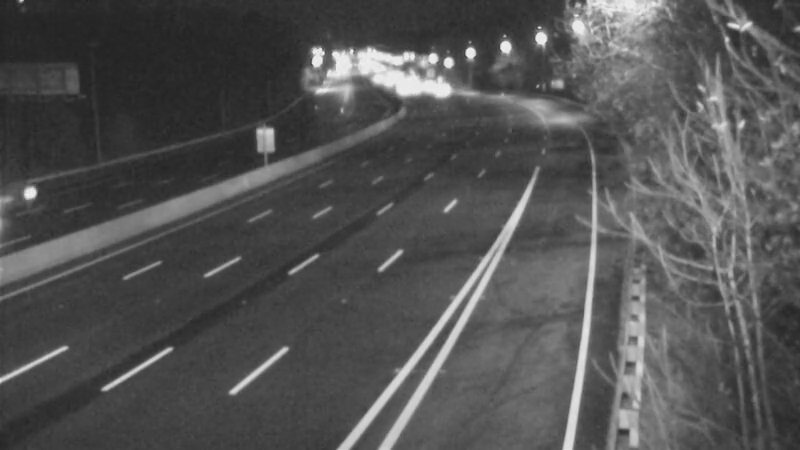vehicle: (1, 158, 66, 238)
